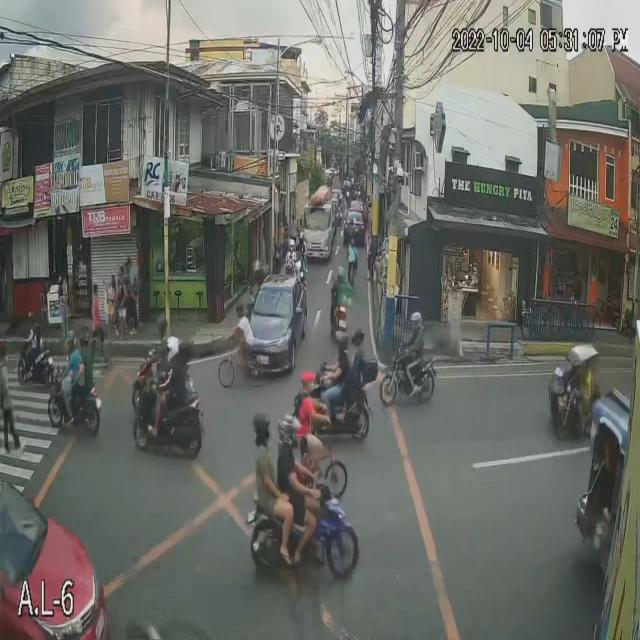full: (277, 410, 301, 450), (164, 332, 180, 362), (334, 328, 350, 357), (408, 307, 424, 334), (62, 332, 78, 358)
half: (253, 414, 270, 446), (352, 326, 366, 347)
